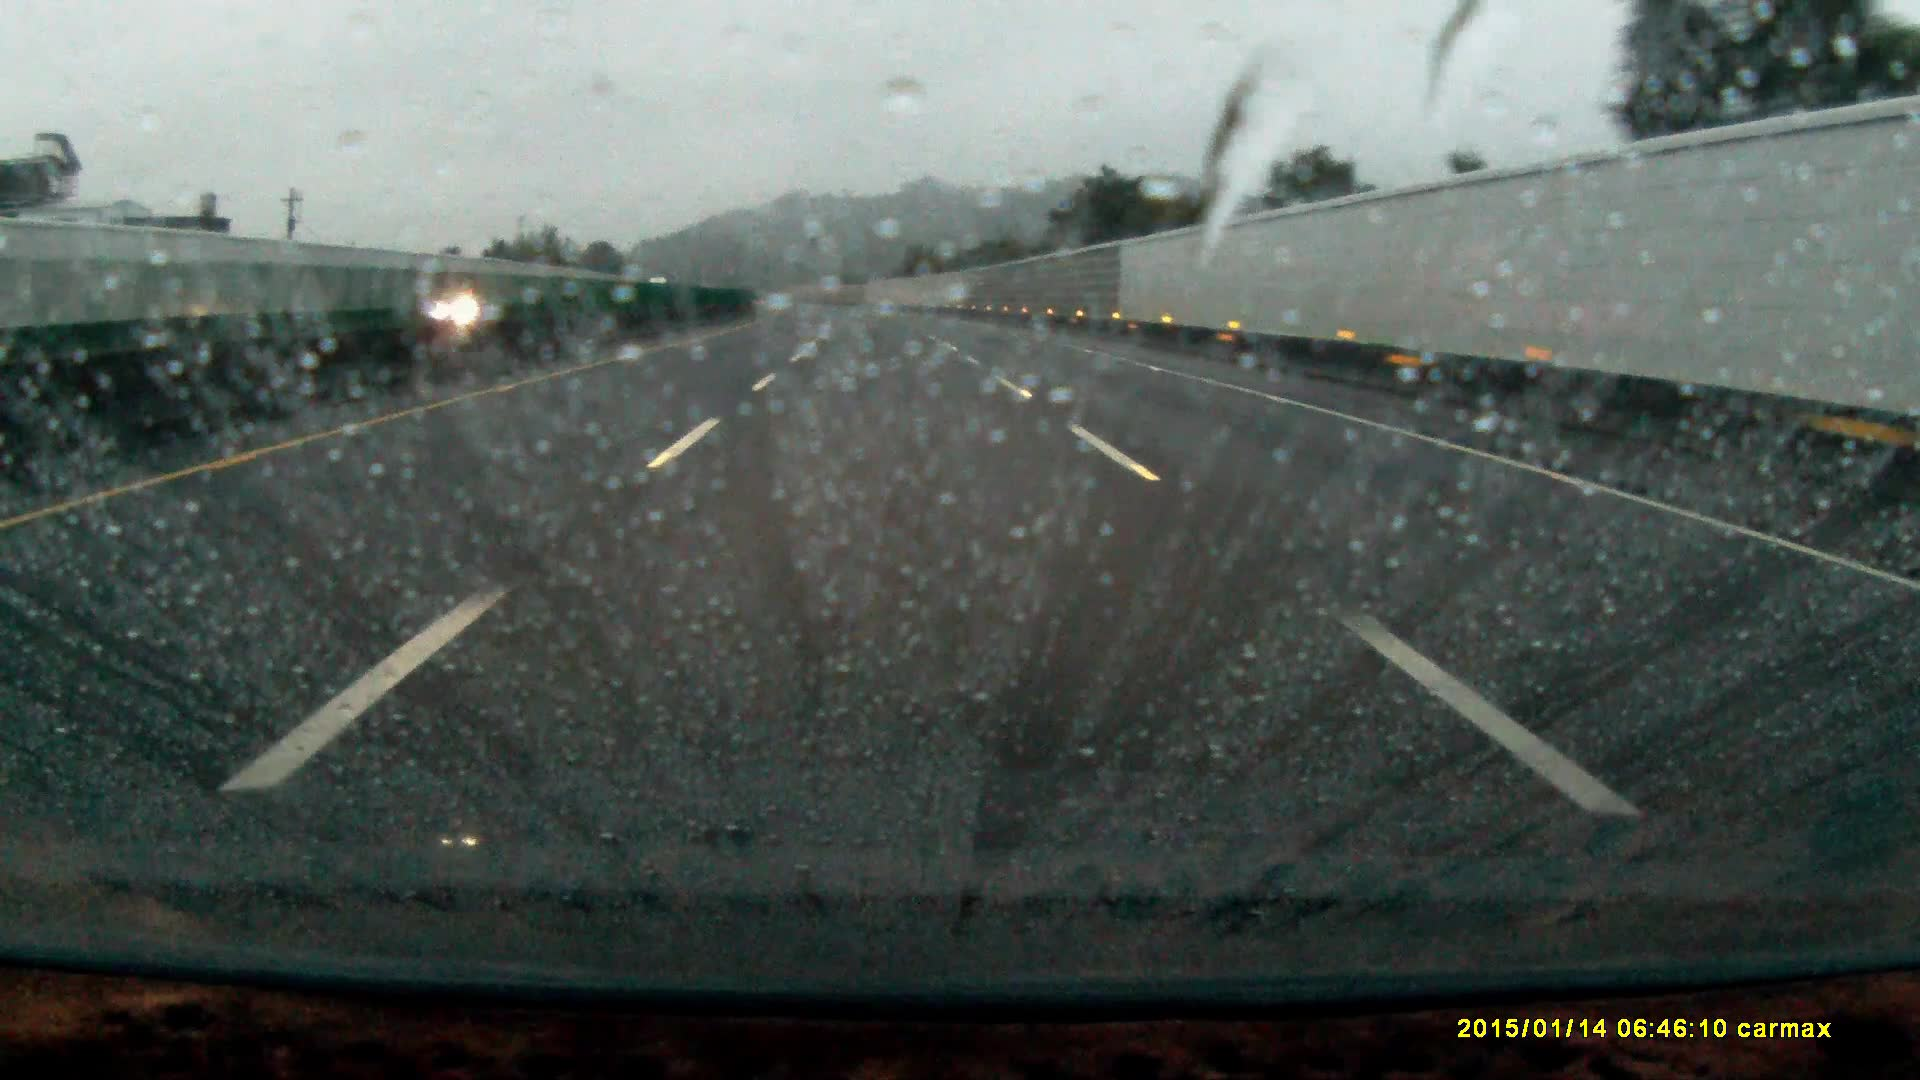vehicle: (438, 293, 495, 320)
